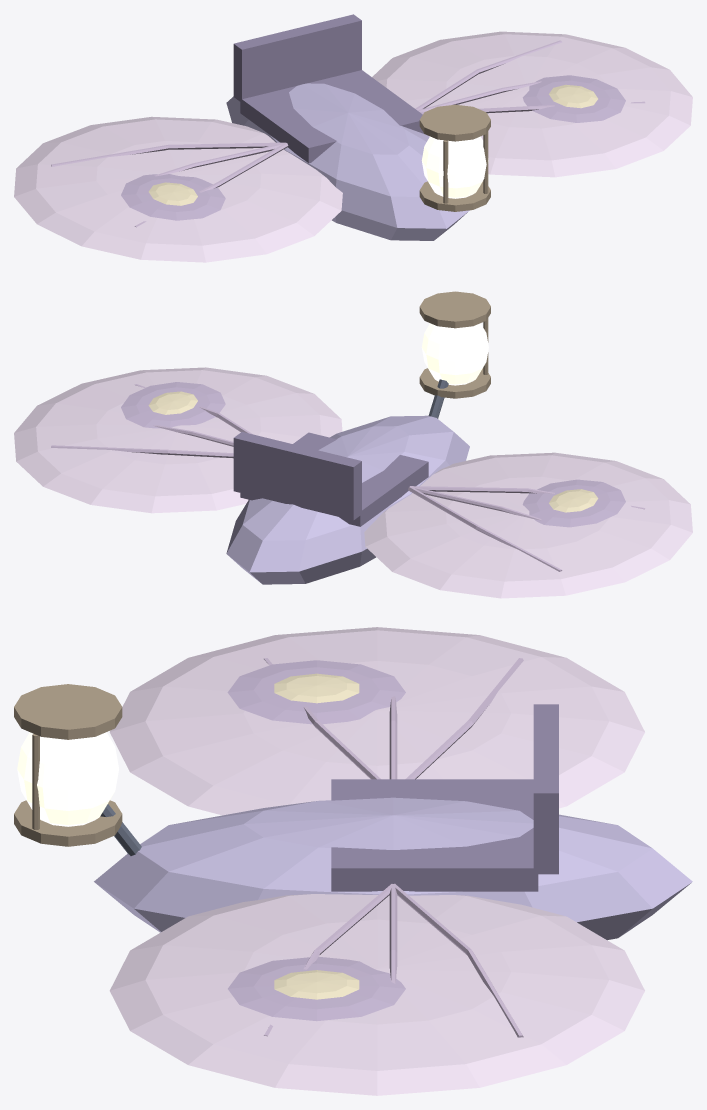
The model's file is glider.glb.
3 renders of one model, top to bottom at view 1: azimuth 30°, elevation 25°; view 2: azimuth 150°, elevation 25°; view 3: azimuth 270°, elevation 25°, orthographic. The views are drawn at different scales.
Visible parts, largest first — view 1: wing (×2), paint, seat-back, seat-pad, lantern-cap (×2), lantern-glow; view 2: wing (×2), paint, seat-back, lantern-glow, lantern-cap (×2), seat-pad; view 3: wing (×2), paint, seat-pad, lantern-cap (×2), lantern-glow, seat-back, lantern-frame.
Part boxes in pixels (box(x1,y1,x2,y2)): wing (×2): box(14, 31, 692, 262); paint: box(226, 83, 469, 240); seat-back: box(233, 14, 361, 102); seat-pad: box(240, 70, 423, 163); lantern-cap (×2): box(419, 104, 490, 211); lantern-glow: box(421, 136, 488, 198); wing (×2): box(14, 367, 692, 598); paint: box(226, 415, 469, 584); seat-back: box(233, 432, 361, 520); lantern-glow: box(421, 323, 488, 385); lantern-cap (×2): box(419, 291, 490, 398); seat-pad: box(240, 432, 428, 526); wing (×2): box(109, 627, 644, 1095); paint: box(94, 797, 692, 940); seat-pad: box(331, 779, 538, 891); lantern-cap (×2): box(14, 684, 122, 846); lantern-glow: box(17, 732, 118, 826); seat-back: box(533, 704, 558, 874); lantern-frame: box(32, 734, 39, 829).
Bounding box in the file's own units: 2.8 × 0.6718 × 1.71.
